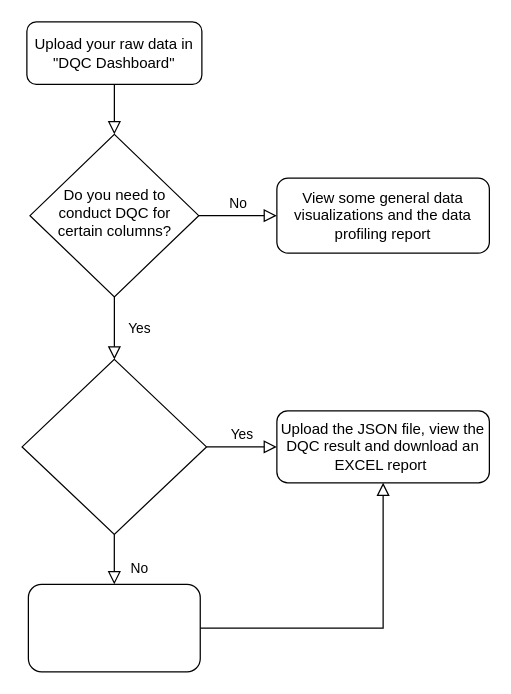
Image size: 511x694. Some labels were removed from this diagram. Each missing label, with the box of its shape:
Do you have a JSON file that contains your specific expectations for DQC?: (21, 358, 206, 534)
Generate a JSON file by specifying your expectations in "Generate Expectations": (27, 583, 200, 672)
